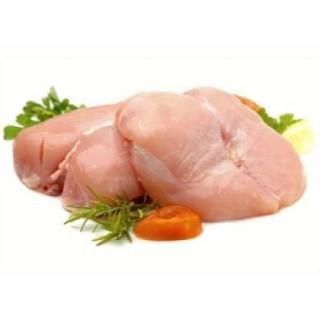Ayam: (17, 89, 307, 221), (122, 90, 305, 215), (17, 106, 144, 202)
